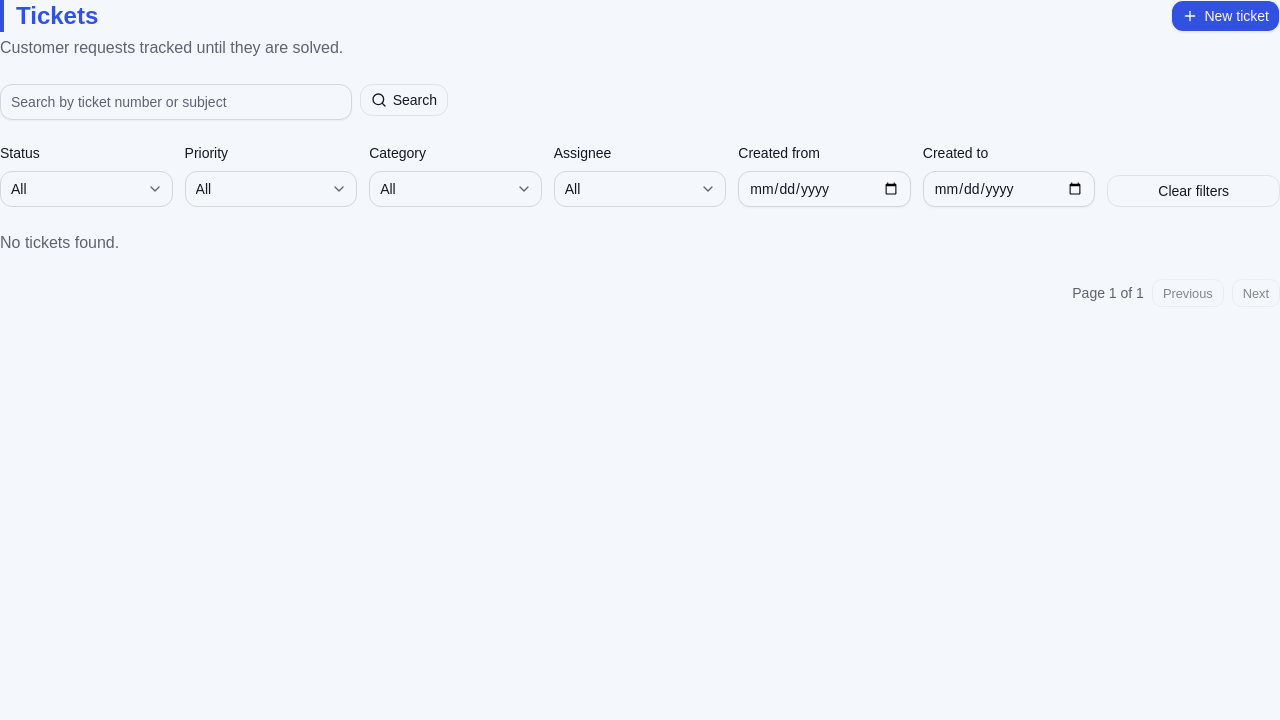
Test case: TicketsPage — new ticket › creates a ticket with customer, subject, description, category and priority
Click the button "New ticket" at (1226, 16), box [1171,0,1279,32]
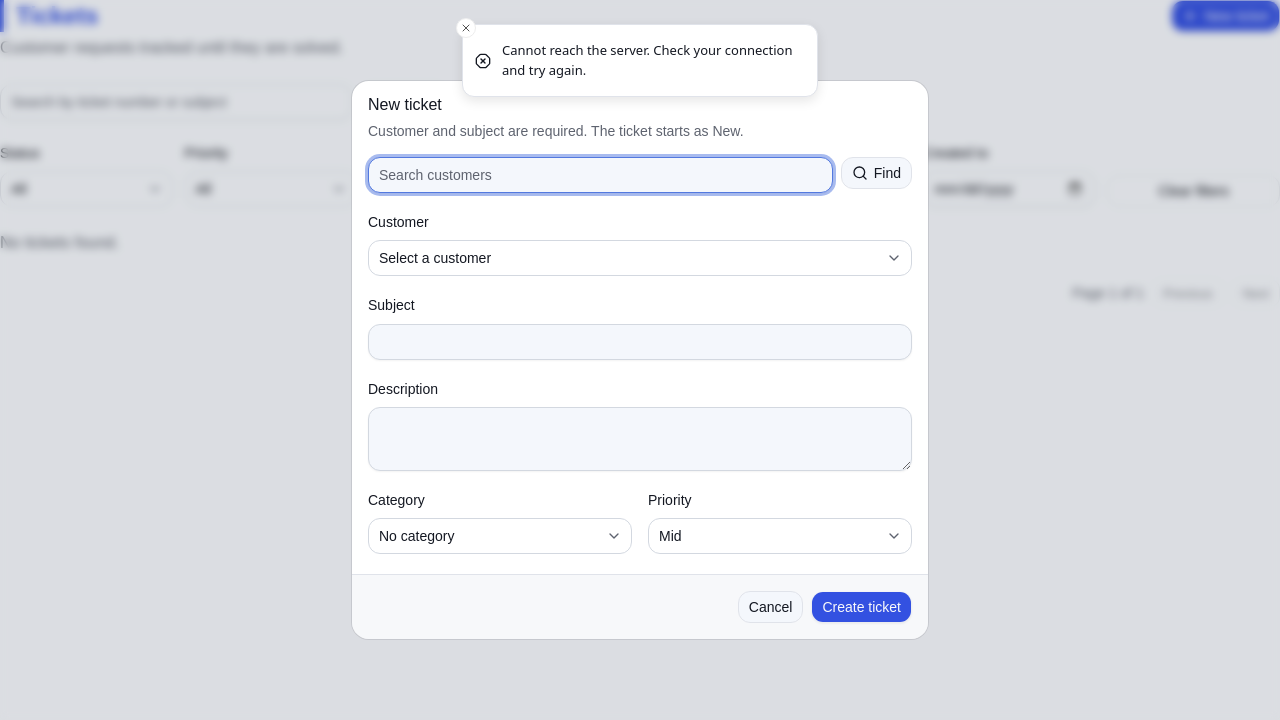
Select "Nour Trading" in the dropdown labelled "Customer" at (640, 258), box [368,240,912,276]
Type " Invoice is wrong " into the field labelled "Subject" at (640, 342), box [368,324,912,360]
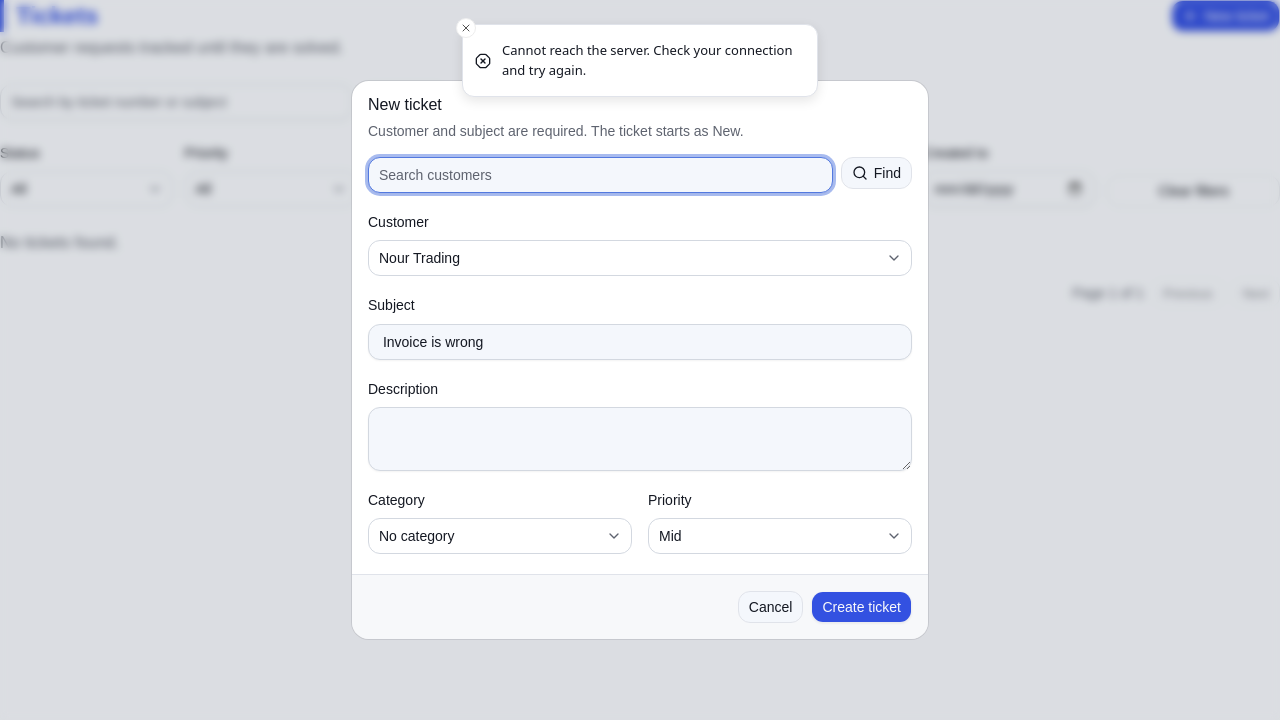
Type "Line 3 is charged twice." into the text box labelled "Description" at (640, 439), box [368,407,912,471]
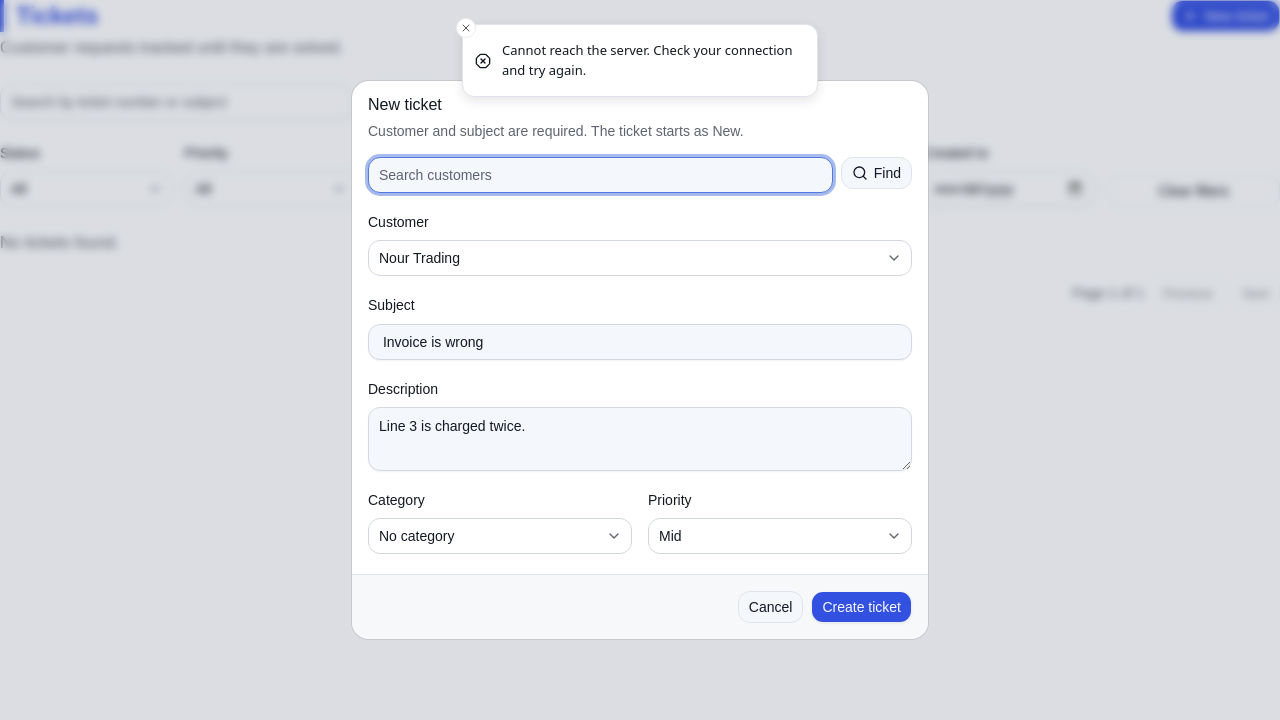
Select "Billing" in the dropdown labelled "Category" at (500, 536), box [368,518,632,554]
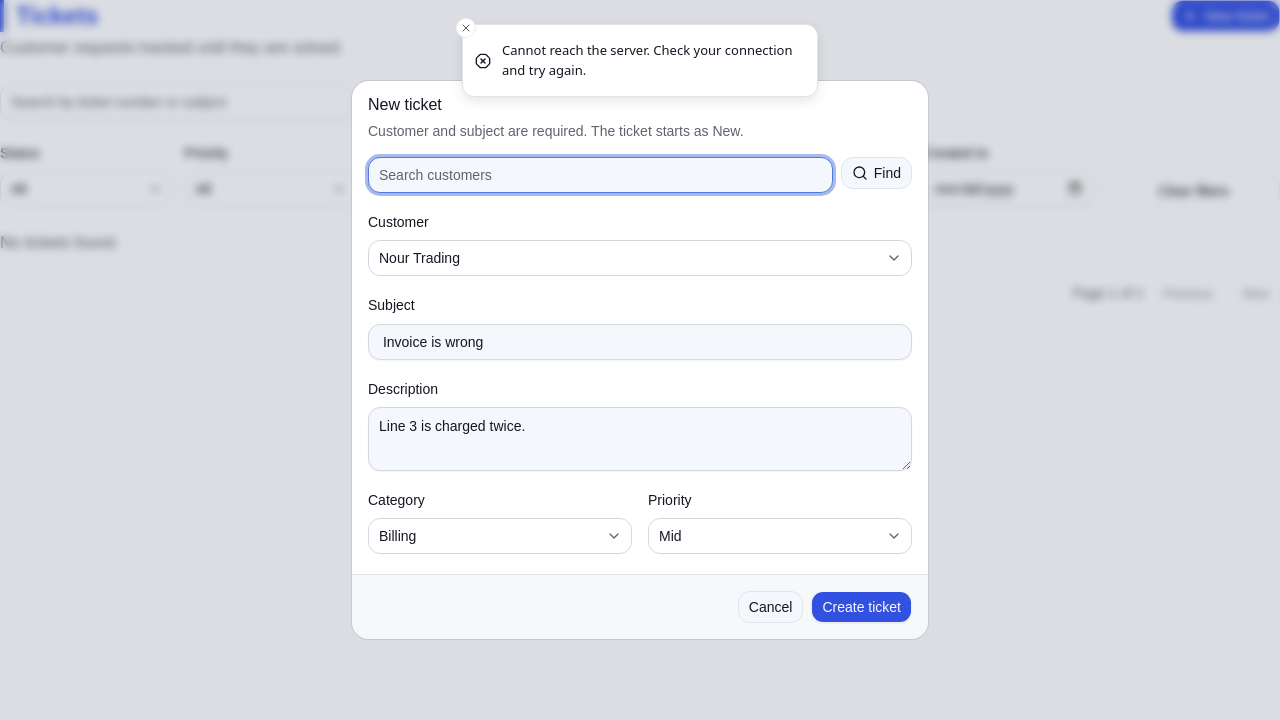
Expected: the dropdown labelled "Priority" shows "Mid"
Select "High" in the dropdown labelled "Priority" at (780, 536), box [648,518,912,554]
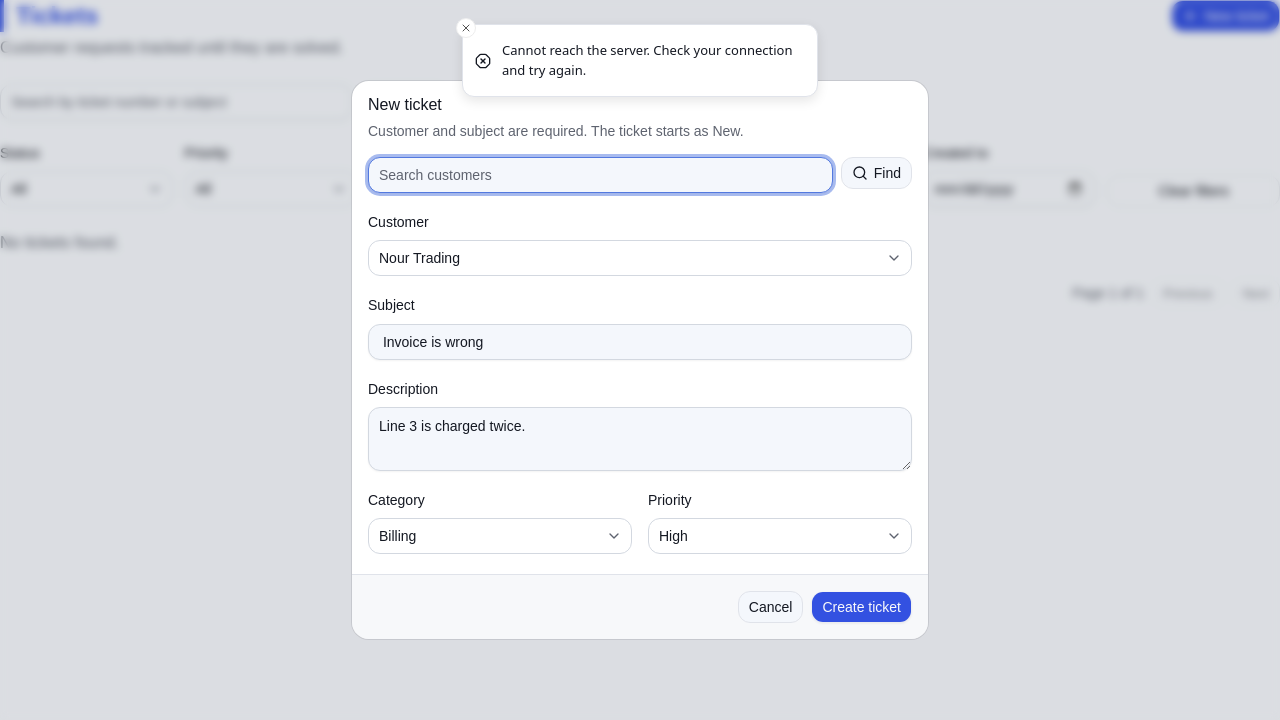
Click the button "Create ticket" at (862, 607), box [811,591,912,623]
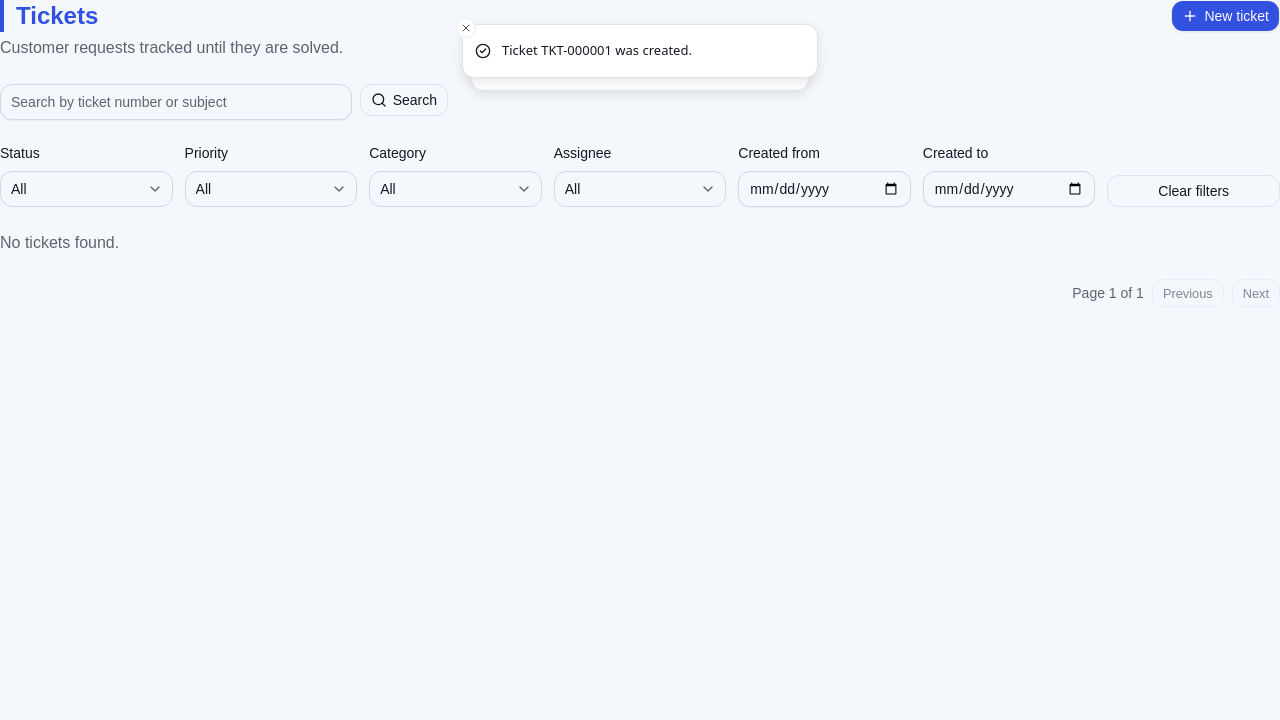
Expected: the text "Ticket TKT-000001 was created." is shown, [502,41,692,60]
Expected: the dialog is gone
